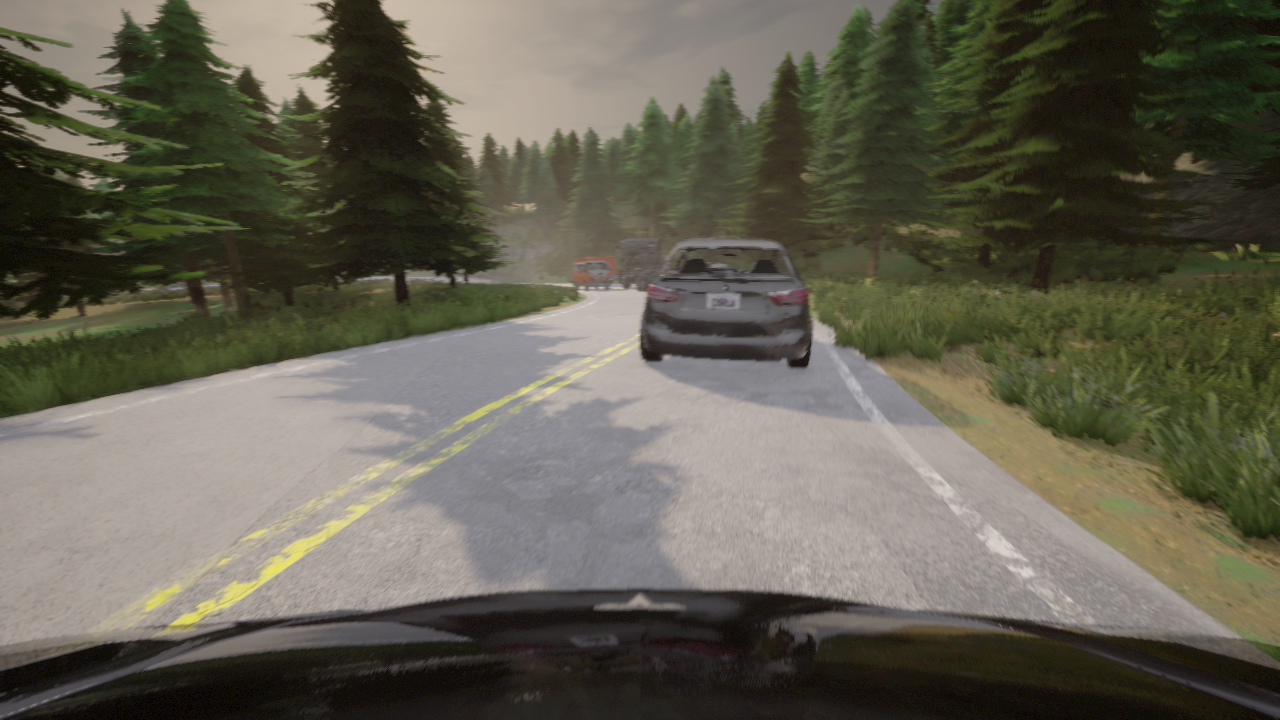cyclist: (0, 588, 1279, 719), (640, 238, 812, 368), (615, 237, 662, 290), (568, 256, 617, 284), (573, 261, 610, 290)
